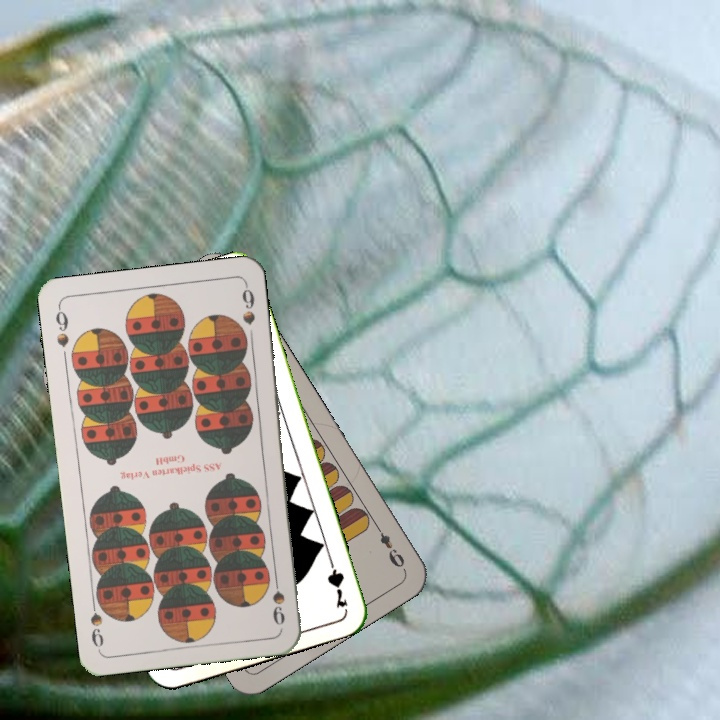E9: (370, 520, 408, 573)
G7: (323, 552, 351, 611)
S9: (268, 569, 288, 628), (51, 302, 72, 350)
